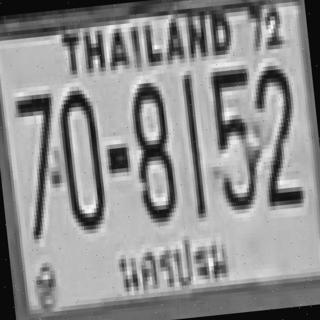N00: (56, 85, 106, 227)
N01: (179, 72, 206, 216)
N02: (250, 62, 301, 205)
N05: (207, 64, 260, 207)
N07: (11, 89, 65, 236)
N08: (126, 77, 177, 220)
P28: (111, 230, 235, 300)
